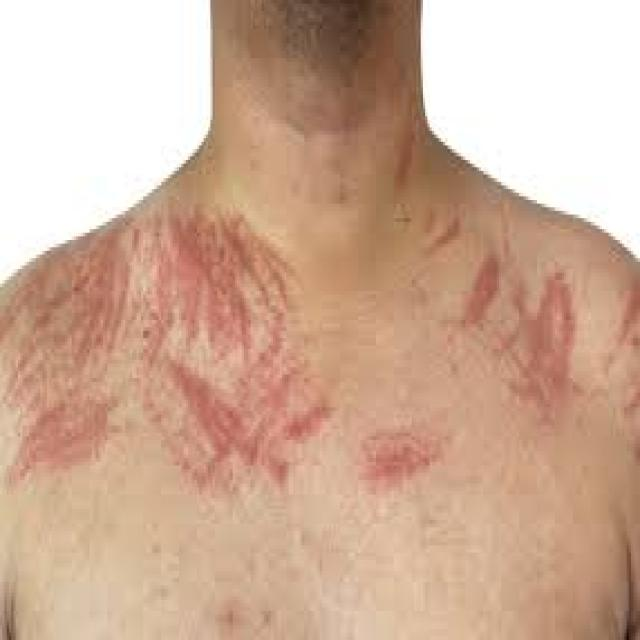Acanthosis Nigricans: (222, 86, 419, 232)
